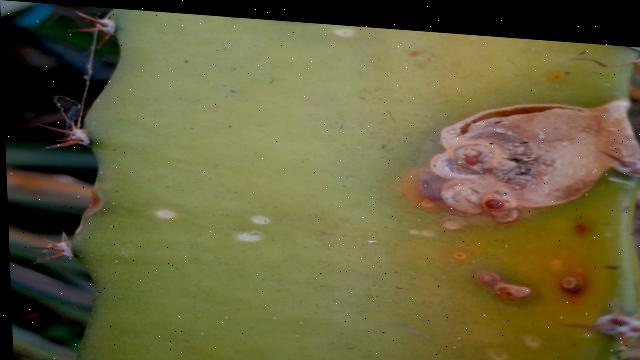stemcanker: (472, 268, 538, 310), (548, 274, 595, 308)
